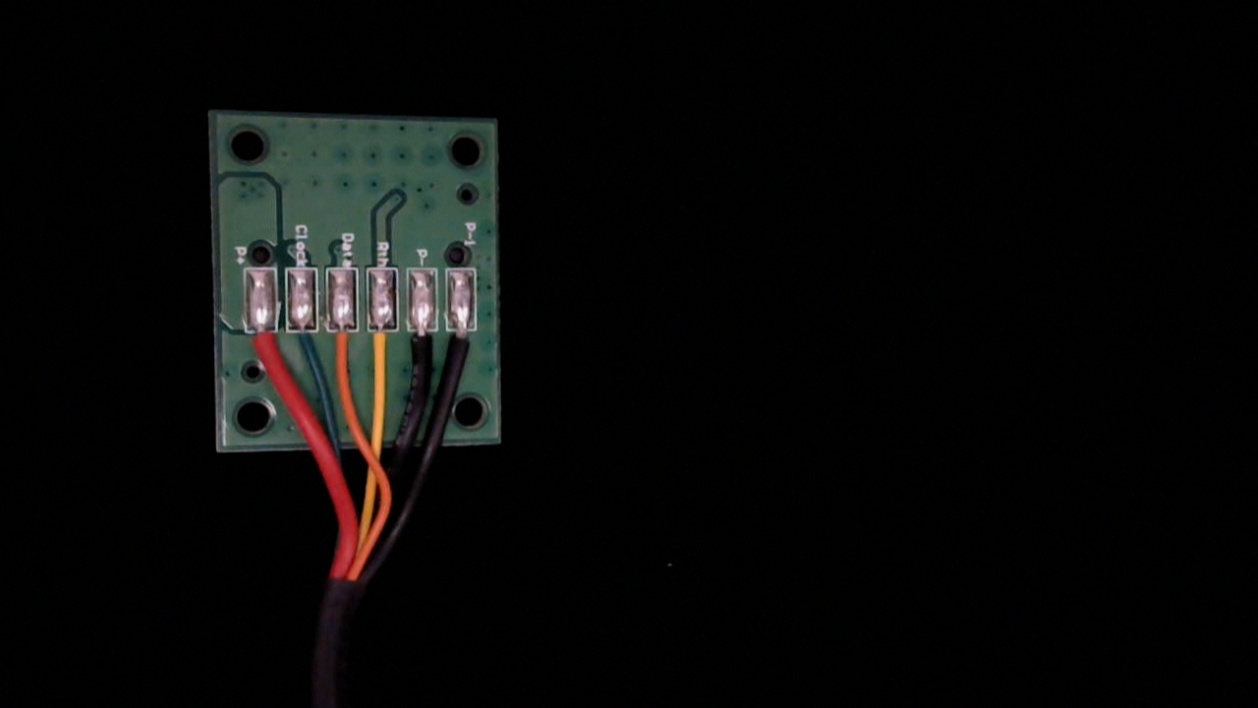Black: (405, 311, 439, 384)
Black1: (447, 313, 481, 380)
Green: (284, 311, 319, 380)
Orange: (328, 310, 361, 382)
Red: (244, 309, 279, 378)
Yellow: (365, 310, 400, 384)
